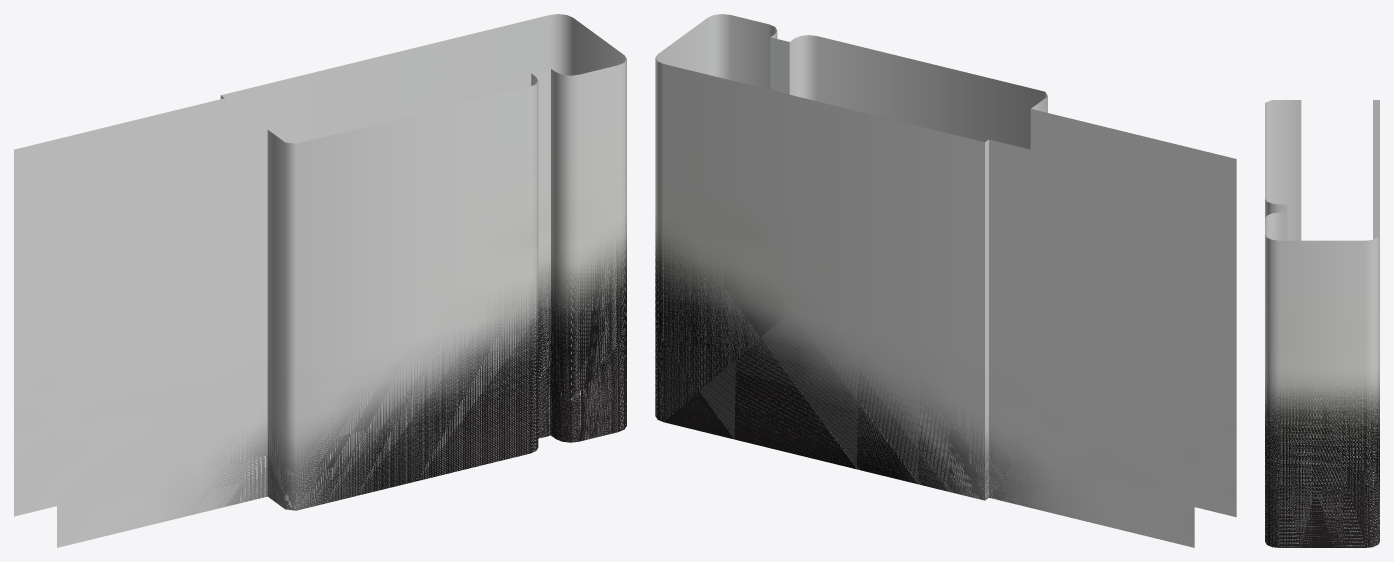
The model's file is original-43.obj.
The picture shows the model from 3 angles, left to right: view 1: azimuth 30°, elevation 25°; view 2: azimuth 150°, elevation 25°; view 3: azimuth 270°, elevation 25°; orthographic projection. The views are drawn at different scales.
Parts seen in each view (by area): view 1: DF_12_CR1/DF_12_CR/mesh30/mesh30-geometry#mesh30-geometry; view 2: DF_12_CR1/DF_12_CR/mesh30/mesh30-geometry#mesh30-geometry; view 3: DF_12_CR1/DF_12_CR/mesh30/mesh30-geometry#mesh30-geometry.
Boxes of the visible parts, x1,y1,x2,y2 form: DF_12_CR1/DF_12_CR/mesh30/mesh30-geometry#mesh30-geometry: (14,14,626,547); DF_12_CR1/DF_12_CR/mesh30/mesh30-geometry#mesh30-geometry: (655,14,1236,547); DF_12_CR1/DF_12_CR/mesh30/mesh30-geometry#mesh30-geometry: (1265,100,1379,547).
Size of the model in its own units: 0.1359 by 0.0859 by 0.0291.
